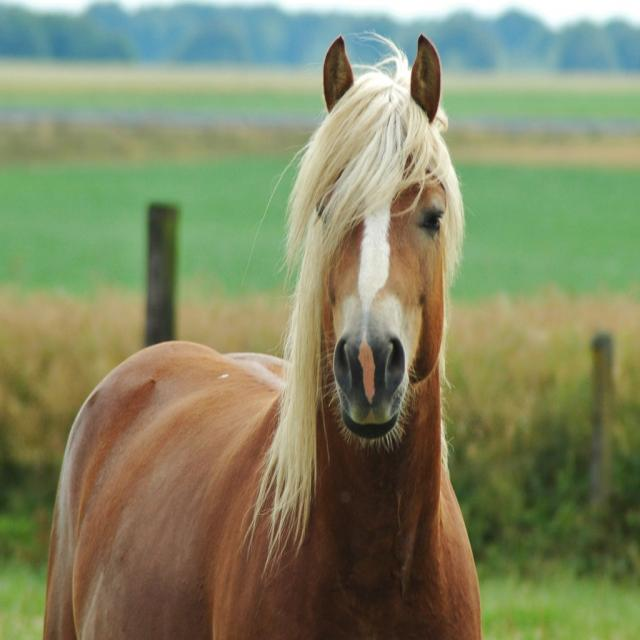Horse: (42, 27, 483, 640)
